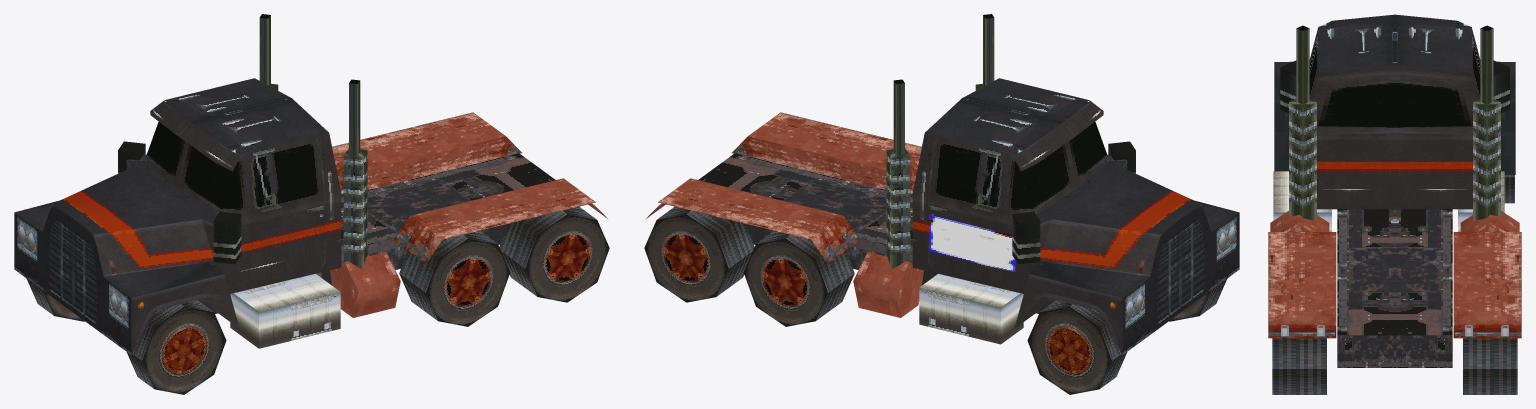
Rendered from 3-axes-truck.glb.
3 views of the same model, side by side, from view 1: azimuth 30°, elevation 25°; view 2: azimuth 150°, elevation 25°; view 3: azimuth 270°, elevation 25° (orthographic). The views are drawn at different scales.
Parts seen in each view (by area): view 1: Mack_Body_Material_0.001, Mack_Body.006_Material_0.001, Mack_Body.005_Material_0.001, Mack_Wheel_FL_Material_0.001, Mack_SunVisor_Material_0.001, Mack_Body.002_Material_0.001; view 2: Mack_Body_Material_0.001, Mack_Body.004_Material_0.001, Mack_Body.003_Material_0.001, Mack_Body.002_Material_0.001, Mack_SunVisor_Material_0.001, Mack_Wheel_FL_Material_0.001; view 3: Mack_Body_Material_0.001, Mack_Body.006_Material_0.001, Mack_Body.004_Material_0.001, Mack_Body.002_Material_0.001.
Boxes of the visible parts, x1=… form: Mack_Body_Material_0.001: x1=14, y1=14, x2=607, y2=355; Mack_Body.006_Material_0.001: x1=499, y1=206, x2=609, y2=302; Mack_Body.005_Material_0.001: x1=399, y1=231, x2=510, y2=326; Mack_Wheel_FL_Material_0.001: x1=126, y1=300, x2=226, y2=394; Mack_SunVisor_Material_0.001: x1=150, y1=101, x2=240, y2=171; Mack_Body.002_Material_0.001: x1=26, y1=278, x2=84, y2=321; Mack_Body_Material_0.001: x1=646, y1=14, x2=1239, y2=355; Mack_Body.004_Material_0.001: x1=644, y1=206, x2=754, y2=302; Mack_Body.003_Material_0.001: x1=743, y1=231, x2=854, y2=326; Mack_Body.002_Material_0.001: x1=1027, y1=300, x2=1127, y2=394; Mack_SunVisor_Material_0.001: x1=1013, y1=101, x2=1103, y2=171; Mack_Wheel_FL_Material_0.001: x1=1169, y1=278, x2=1227, y2=321; Mack_Body_Material_0.001: x1=1268, y1=14, x2=1521, y2=367; Mack_Body.006_Material_0.001: x1=1272, y1=338, x2=1326, y2=394; Mack_Body.004_Material_0.001: x1=1463, y1=338, x2=1517, y2=394; Mack_Body.002_Material_0.001: x1=1504, y1=175, x2=1514, y2=203.
Size of the model in its own units: 5.38 by 2.78 by 2.4.
2 materials, 2 textured.
